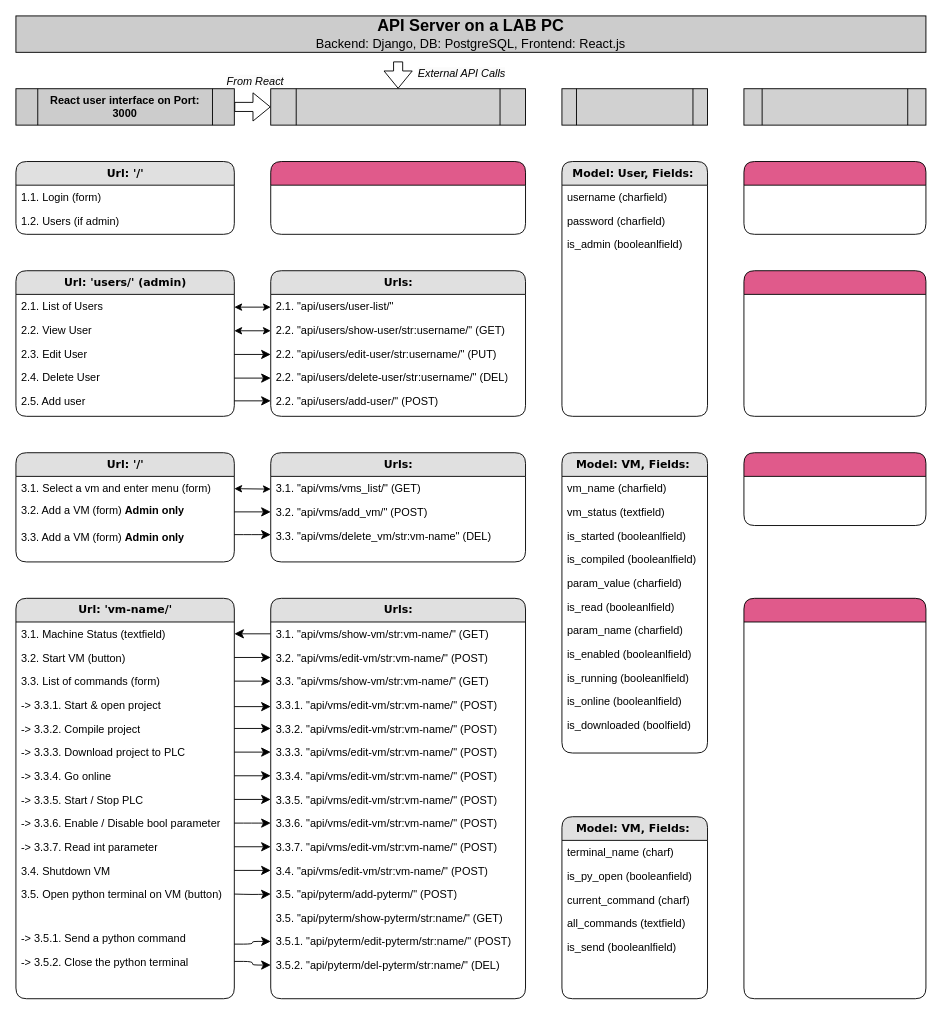
The diagram is 942 pixels wide and 1015 high, and some of its shapes have lost their labels. Here are the shapes that lost their labels. From the top down, the centre of each, then its label:
(398,106): API of backend on Port: 8000
(634,106): PostgreSQL (using Django ORM)
(834,106): Integration with "VM Controller" App
